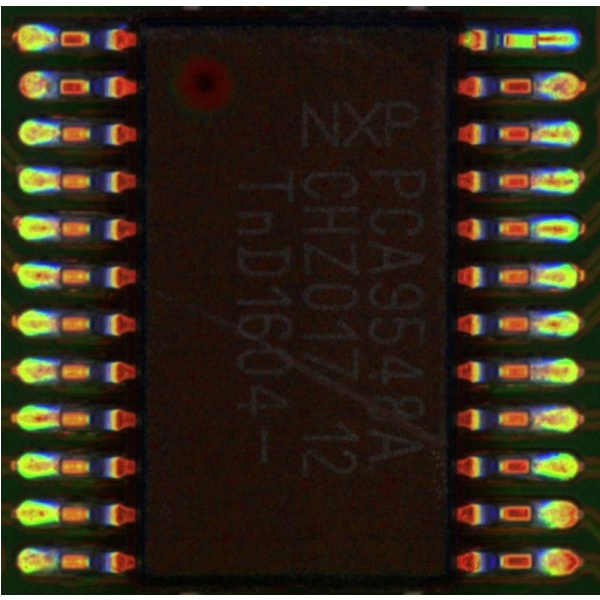Bad_podu: (40, 315, 69, 332), (42, 413, 74, 426), (43, 459, 72, 473), (39, 176, 70, 189), (40, 365, 71, 378), (43, 555, 72, 568), (40, 270, 69, 283), (516, 318, 544, 331), (515, 365, 545, 377), (516, 413, 548, 424), (42, 128, 71, 139), (519, 176, 546, 187), (518, 271, 545, 282), (518, 128, 547, 138), (525, 35, 546, 46)
